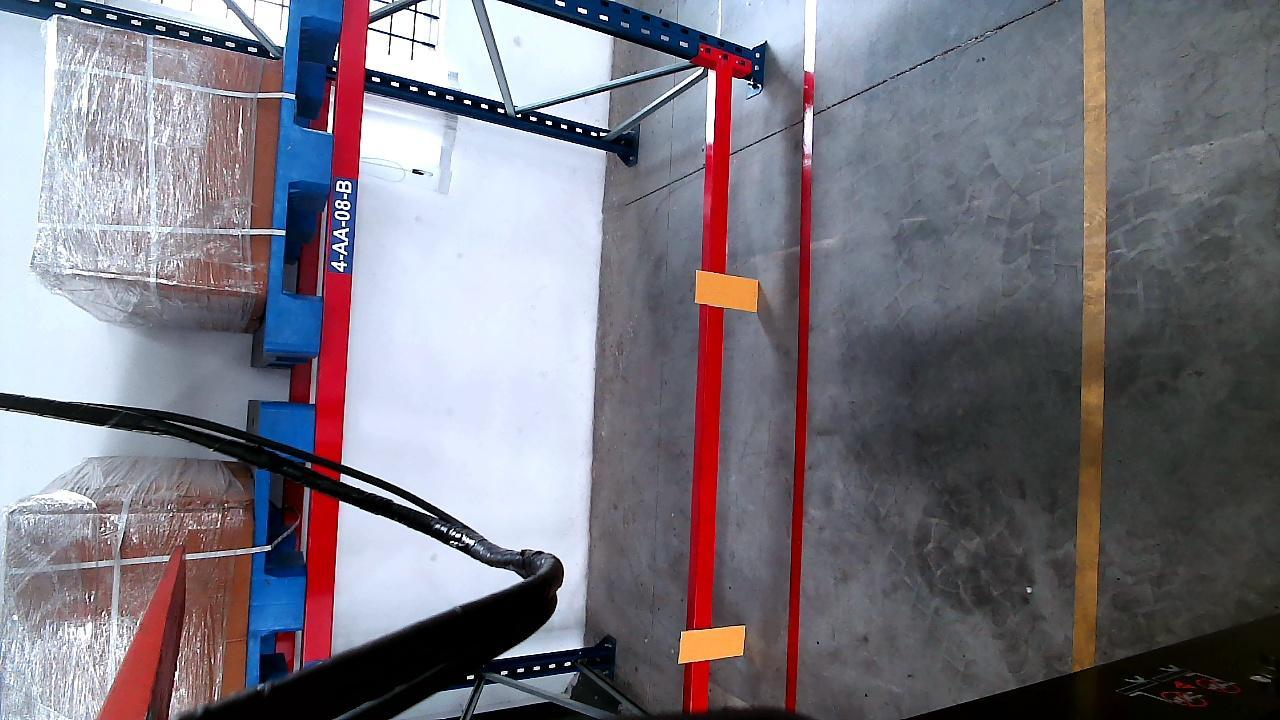red_line: (782, 0, 817, 708)
yellow_line: (1078, 0, 1104, 673)
